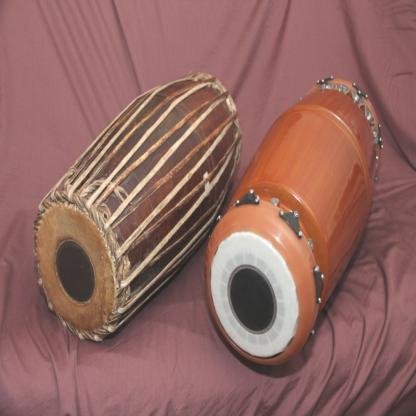Mridangam: (28, 62, 247, 355), (203, 72, 386, 364)
